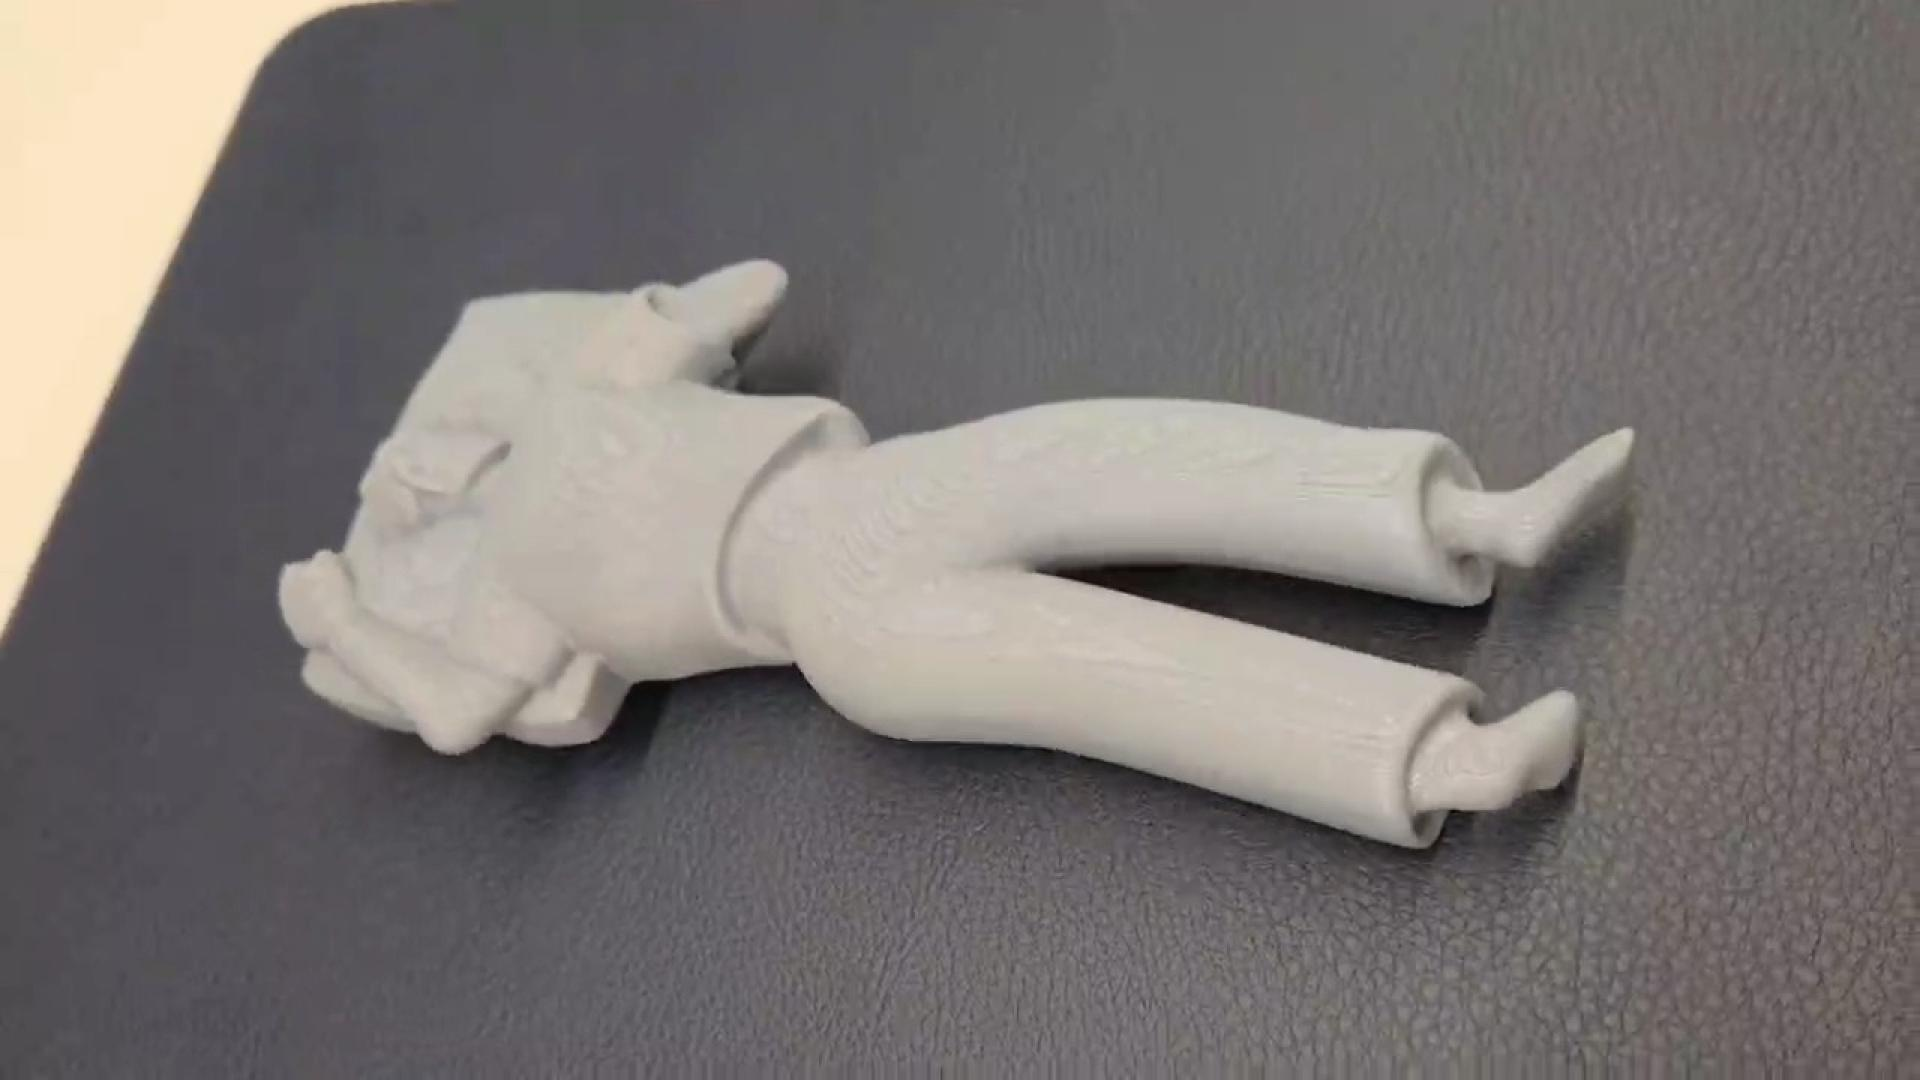Bad-style: (284, 260, 1639, 857)
